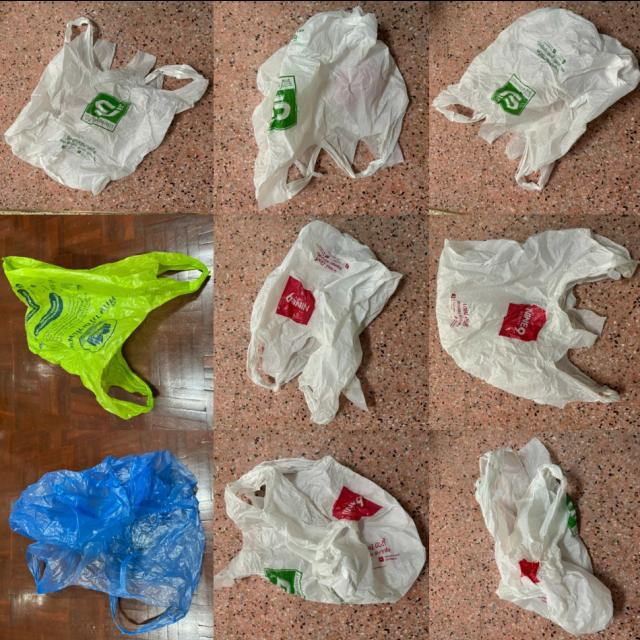plastik: (433, 7, 640, 189), (9, 449, 205, 635), (4, 17, 209, 194), (436, 228, 638, 406), (3, 251, 210, 417), (252, 6, 409, 209), (247, 219, 402, 424), (215, 455, 426, 603), (475, 438, 613, 635)
